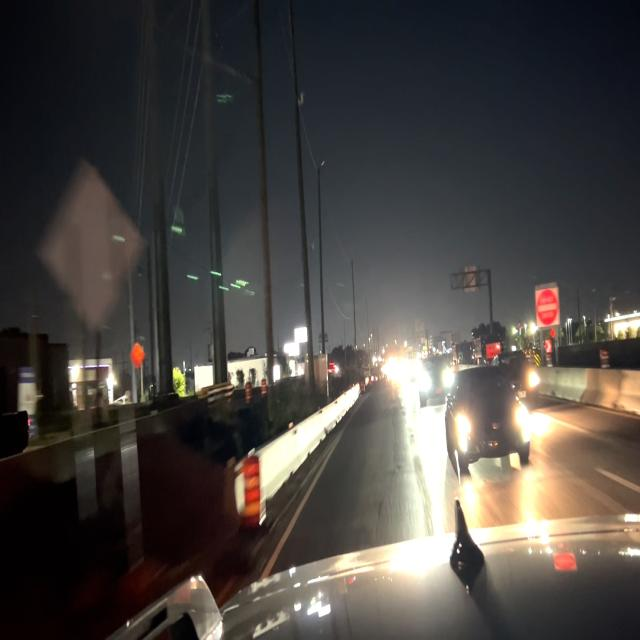back-of-sign: (37, 154, 145, 330), (448, 255, 491, 299)
